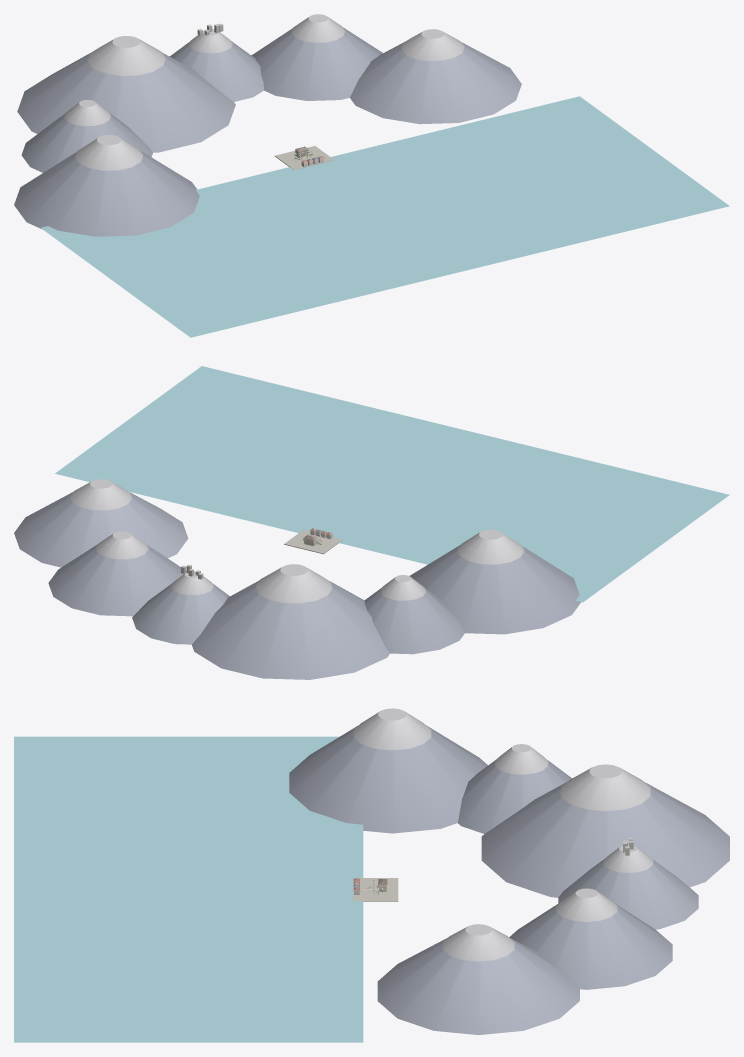
The model's file is family_hotel.glb.
3 renders of one model, top to bottom at view 1: azimuth 30°, elevation 25°; view 2: azimuth 150°, elevation 25°; view 3: azimuth 270°, elevation 25°, orthographic. The views are drawn at different scales.
Visible parts, largest first — view 1: water, far_mountains, ground-col; view 2: water, far_mountains, ground-col; view 3: water, far_mountains, ground-col.
Boxes of the visible parts, x1,y1,x2,y2 form: water: [41, 96, 729, 337]; far_mountains: [14, 14, 521, 236]; ground-col: [275, 146, 334, 169]; water: [55, 366, 729, 602]; far_mountains: [14, 479, 580, 679]; ground-col: [284, 530, 342, 554]; water: [14, 736, 363, 1042]; far_mountains: [289, 708, 729, 1035]; ground-col: [353, 878, 398, 901].
Size of what is drawn, in the model's own units: 802 by 94.16 by 792.
